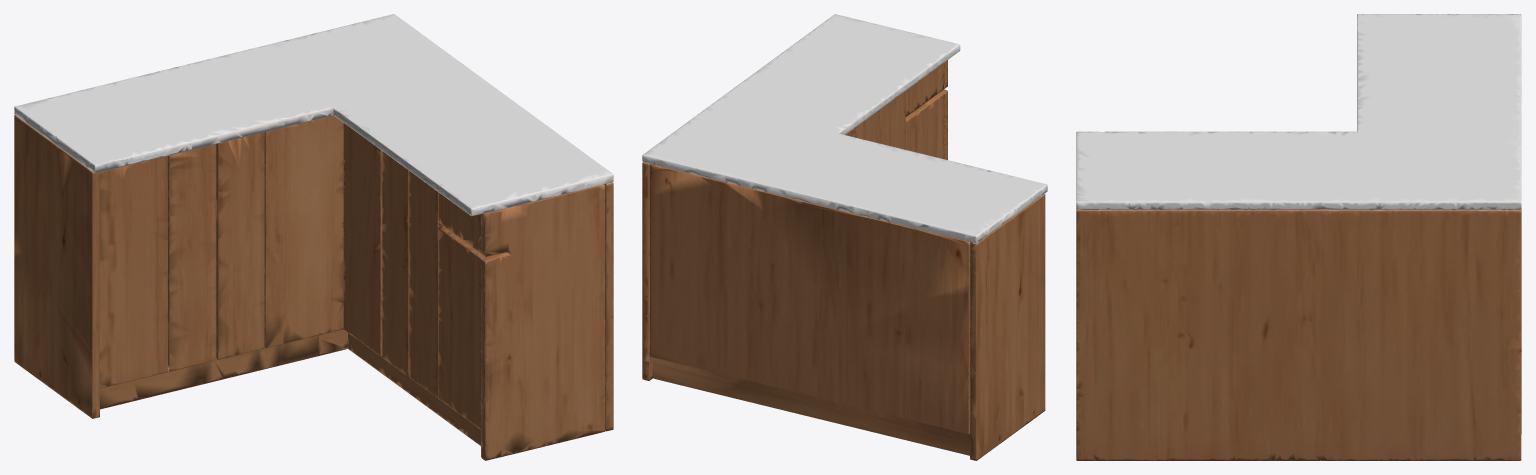
File: kitchen_counter.glb
The picture shows the model from 3 angles, left to right: view 1: azimuth 30°, elevation 25°; view 2: azimuth 150°, elevation 25°; view 3: azimuth 270°, elevation 25°; orthographic projection. The views are drawn at different scales.
Parts seen in each view (by area): view 1: geometry_0; view 2: geometry_0; view 3: geometry_0.
Boxes of the visible parts, bbox=[...] form: geometry_0: bbox=[14, 14, 613, 460]; geometry_0: bbox=[642, 14, 1047, 460]; geometry_0: bbox=[1076, 14, 1521, 460].
Size of the model in its own units: 2.5 by 1.61 by 2.5.
1 material, 1 textured.
